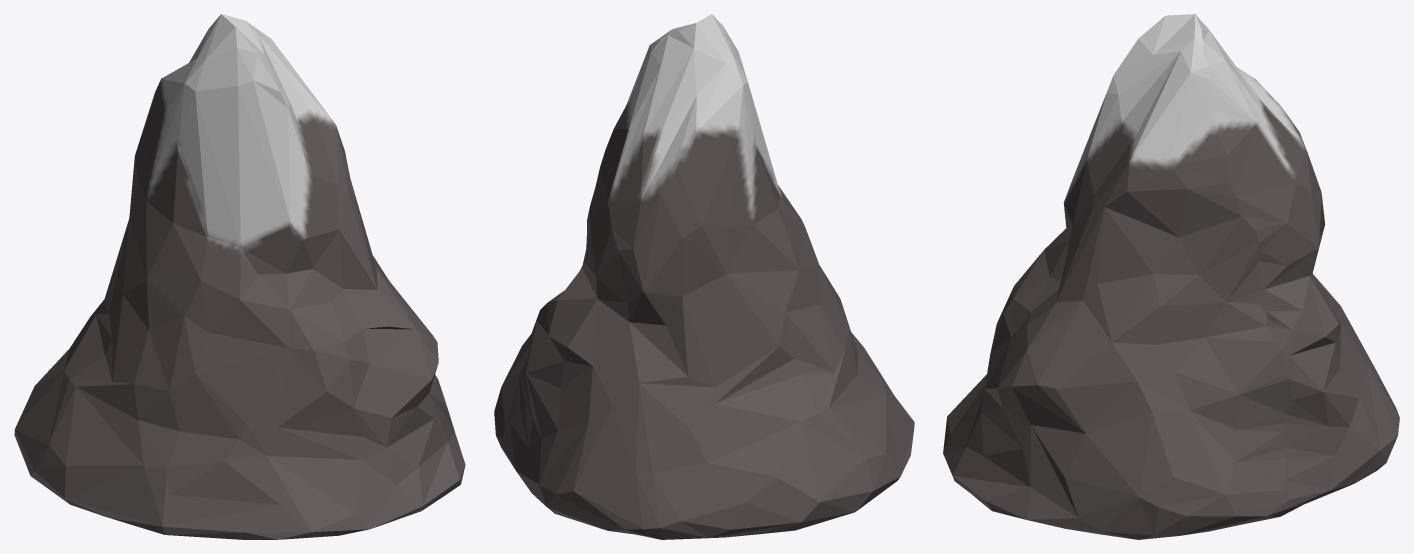
File: Mountain Bg 3.fbx
3 renders of one model, left to right at view 1: azimuth 30°, elevation 25°; view 2: azimuth 150°, elevation 25°; view 3: azimuth 270°, elevation 25°, orthographic.
Visible parts, largest first — view 1: Mountain_Bg_3; view 2: Mountain_Bg_3; view 3: Mountain_Bg_3.
Part boxes in pixels (left/top/right/bottom): Mountain_Bg_3: left=14, top=14, right=465, bottom=539; Mountain_Bg_3: left=494, top=14, right=914, bottom=539; Mountain_Bg_3: left=943, top=14, right=1399, bottom=539.
Bounding box in the file's own units: 50.03 × 55.81 × 52.73.
Materials: 1 (1 with a texture image).
